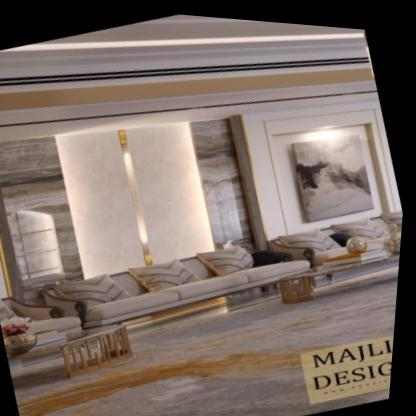Wall Panel: (0, 22, 413, 330)
